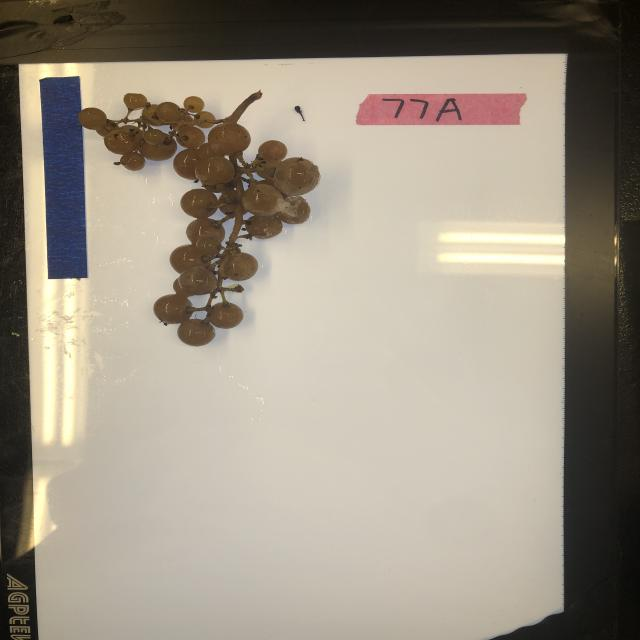grape_cluster: (80, 90, 322, 347)
index: (355, 92, 528, 126)
measure_label: (40, 75, 89, 279)
